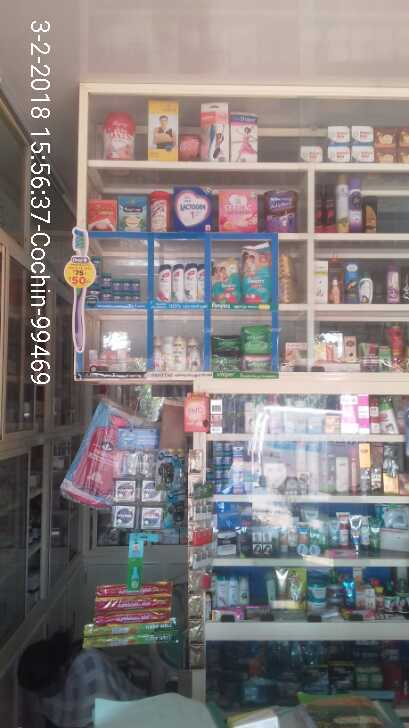vicks: (87, 258, 143, 301)
